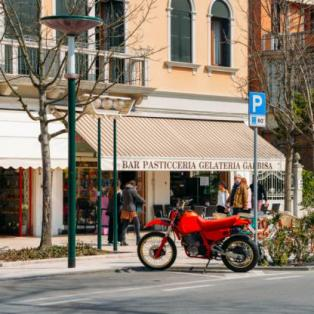Motocicleta: (136, 194, 270, 282)
